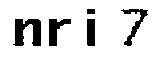7: (119, 7, 147, 52)
i: (79, 4, 108, 51)
n: (10, 14, 43, 53)
r: (47, 17, 73, 48)
